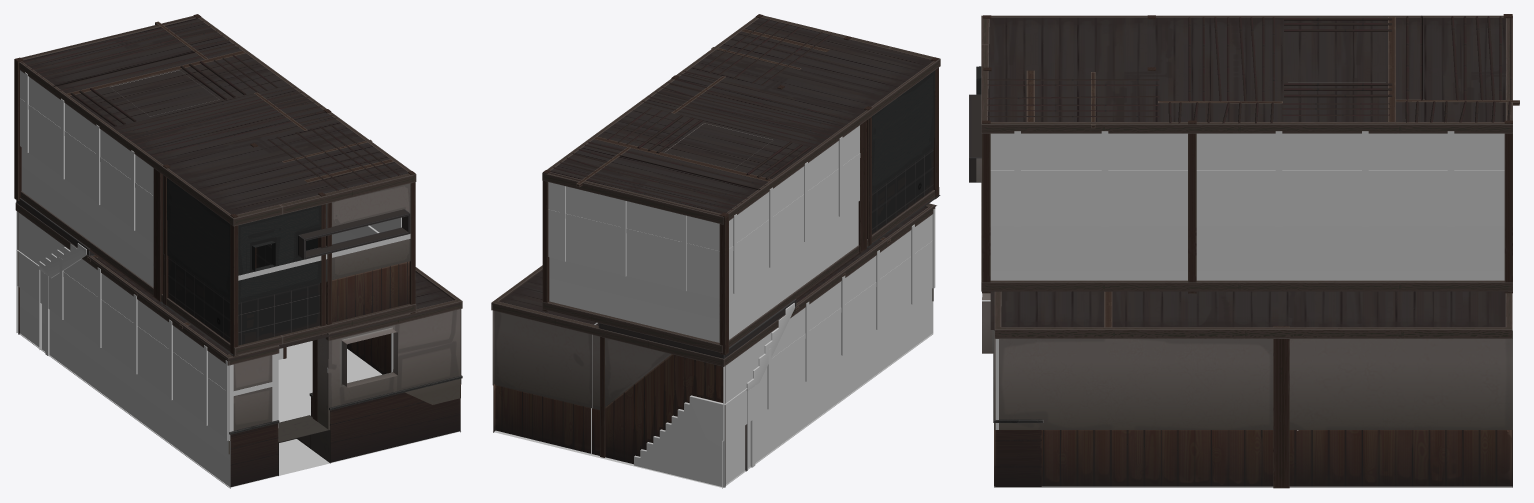
Rendered from izain_wall_frames.fbx.
The picture shows the model from 3 angles, left to right: view 1: azimuth 30°, elevation 25°; view 2: azimuth 150°, elevation 25°; view 3: azimuth 270°, elevation 25°; orthographic projection. The views are drawn at different scales.
Visible parts, largest first — view 1: izaIn_f2_roof, izaIn_f1_leftwall_low, izaIn_f2_wall_front, izaIn_f2_rightwall, izaIn_f1_frontwall_low, izaIn_f1_frontwall_bottom_low, izaIn_restroom_walls3, izaIn_f2_roofedge, izaIn_f1_floor_low, izaIn_f1_roofedge_low, izaIn_f2_flooredge1, izaIn_f2_window_frame (+26 smaller); view 2: izaIn_f2_roof, izaIn_f1_leftwall_low, izaIn_f1_backwall_low, izaIn_f2_backwall, izaIn_f2_rightwall, izaIn_restroom_walls3, izaIn_f2_roofedge, izaIn_stair_inside1_low, izaIn_f1_roofedge_low, izaIn_f2_flooredge1, izaIn_f2roof_cylinders7, izaIn_f2roof_cylinders4 (+19 smaller); view 3: izaIn_f1_rightwall_low, izaIn_f2_roof, izaIn_f2_leftwall1, izaIn_f2_leftwall2, izaIn_f1_roof_low, izaIn_f2_roofedge, izaIn_f1_roofedge_low, izaIn_f2_flooredge1, izain_wallframeH2, izaIn_f1_frontwall_bottom_low, izaIn_kitchen_wall_edge3_low, izaIn_f2roof_cylinders7 (+17 smaller).
Part boxes in pixels (x1,y1,x2,y2): izaIn_f2_roof: [22, 18, 408, 214]; izaIn_f1_leftwall_low: [16, 211, 230, 488]; izaIn_f2_wall_front: [238, 183, 410, 345]; izaIn_f2_rightwall: [20, 70, 153, 287]; izaIn_f1_frontwall_low: [228, 309, 460, 454]; izaIn_f1_frontwall_bottom_low: [229, 375, 462, 486]; izaIn_restroom_walls3: [167, 178, 230, 342]; izaIn_f2_roofedge: [19, 15, 416, 226]; izaIn_f1_floor_low: [19, 333, 461, 487]; izaIn_f1_roofedge_low: [15, 202, 462, 365]; izaIn_f2_flooredge1: [20, 191, 416, 355]; izaIn_f2_window_frame: [298, 209, 410, 259]; izaIn_f2_roof: [550, 18, 932, 213]; izaIn_f1_leftwall_low: [722, 214, 933, 488]; izaIn_f1_backwall_low: [494, 311, 725, 486]; izaIn_f2_backwall: [548, 182, 719, 342]; izaIn_f2_rightwall: [729, 125, 859, 339]; izaIn_restroom_walls3: [872, 70, 934, 234]; izaIn_f2_roofedge: [542, 15, 940, 224]; izaIn_stair_inside1_low: [634, 388, 747, 487]; izaIn_f1_roofedge_low: [491, 203, 935, 366]; izaIn_f2_flooredge1: [542, 187, 939, 353]; izaIn_f2roof_cylinders7: [583, 151, 765, 215]; izaIn_f2roof_cylinders4: [678, 86, 852, 145]; izaIn_f1_rightwall_low: [994, 330, 1512, 487]; izaIn_f2_roof: [988, 17, 1505, 121]; izaIn_f2_leftwall1: [1196, 133, 1504, 280]; izaIn_f2_leftwall2: [990, 133, 1187, 280]; izaIn_f1_roof_low: [990, 291, 1505, 329]; izaIn_f2_roofedge: [981, 15, 1512, 133]; izaIn_f1_roofedge_low: [994, 291, 1512, 338]; izaIn_f2_flooredge1: [981, 182, 1512, 291]; izain_wallframeH2: [990, 170, 1504, 176]; izaIn_f1_frontwall_bottom_low: [993, 353, 1043, 487]; izaIn_kitchen_wall_edge3_low: [1273, 326, 1289, 488]; izaIn_f2roof_cylinders7: [1406, 15, 1511, 100].
Bounding box in the file's own units: 4.98 × 5.57 × 8.27.
